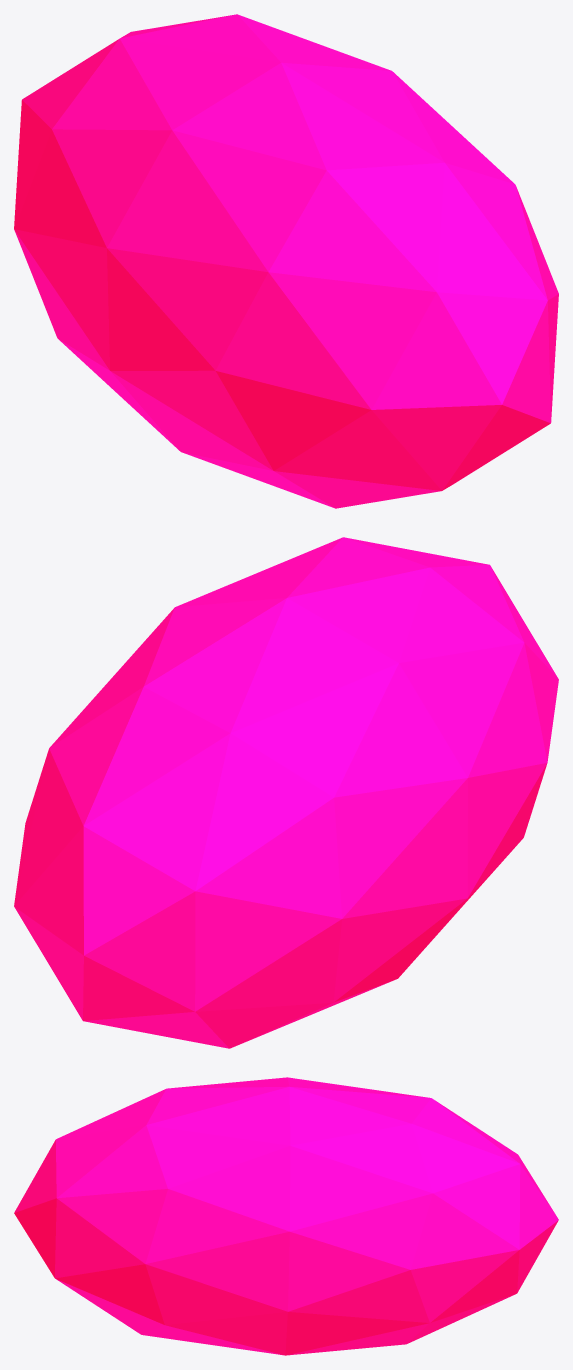
Rendered from powerup.glb.
3 renders of one model, top to bottom at view 1: azimuth 30°, elevation 25°; view 2: azimuth 150°, elevation 25°; view 3: azimuth 270°, elevation 25°, orthographic. The views are drawn at different scales.
Visible parts, largest first — view 1: Icosphere; view 2: Icosphere; view 3: Icosphere.
Part boxes in pixels (x1,y1,x2,y2): Icosphere: [14, 14, 558, 508]; Icosphere: [14, 537, 558, 1048]; Icosphere: [14, 1077, 558, 1355].
Size of what is drawn, in the model's own units: 1.91 by 2 by 3.83.
